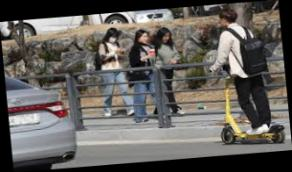nonhelmet: (208, 3, 289, 149)
